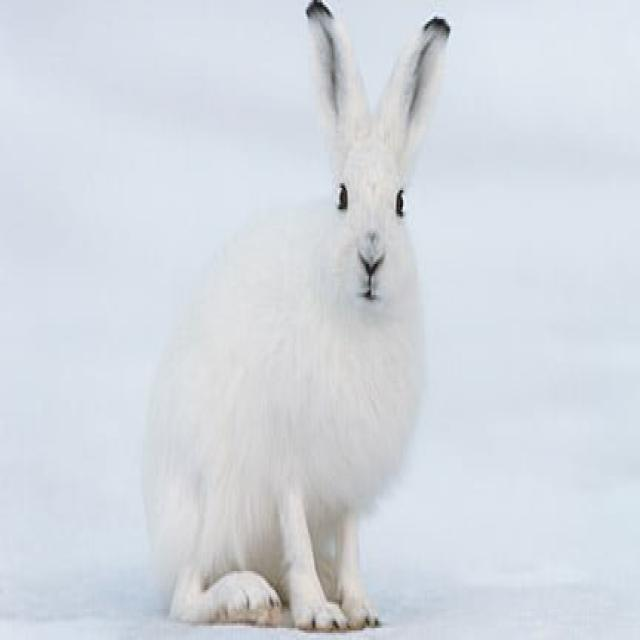Hare: (138, 6, 461, 634)
